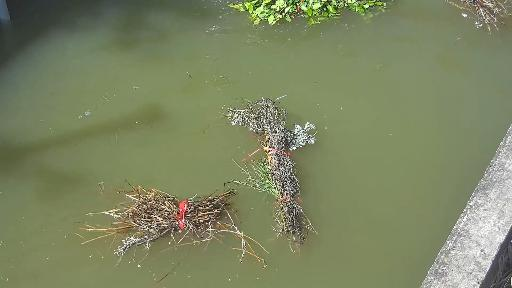twig: (240, 82, 333, 257), (98, 186, 268, 260), (240, 0, 422, 34), (446, 0, 512, 27)
